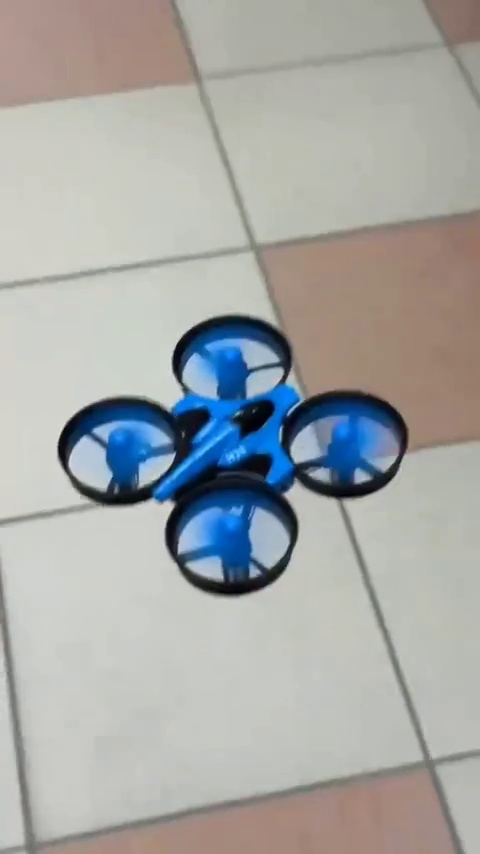drone: (60, 313, 406, 581)
